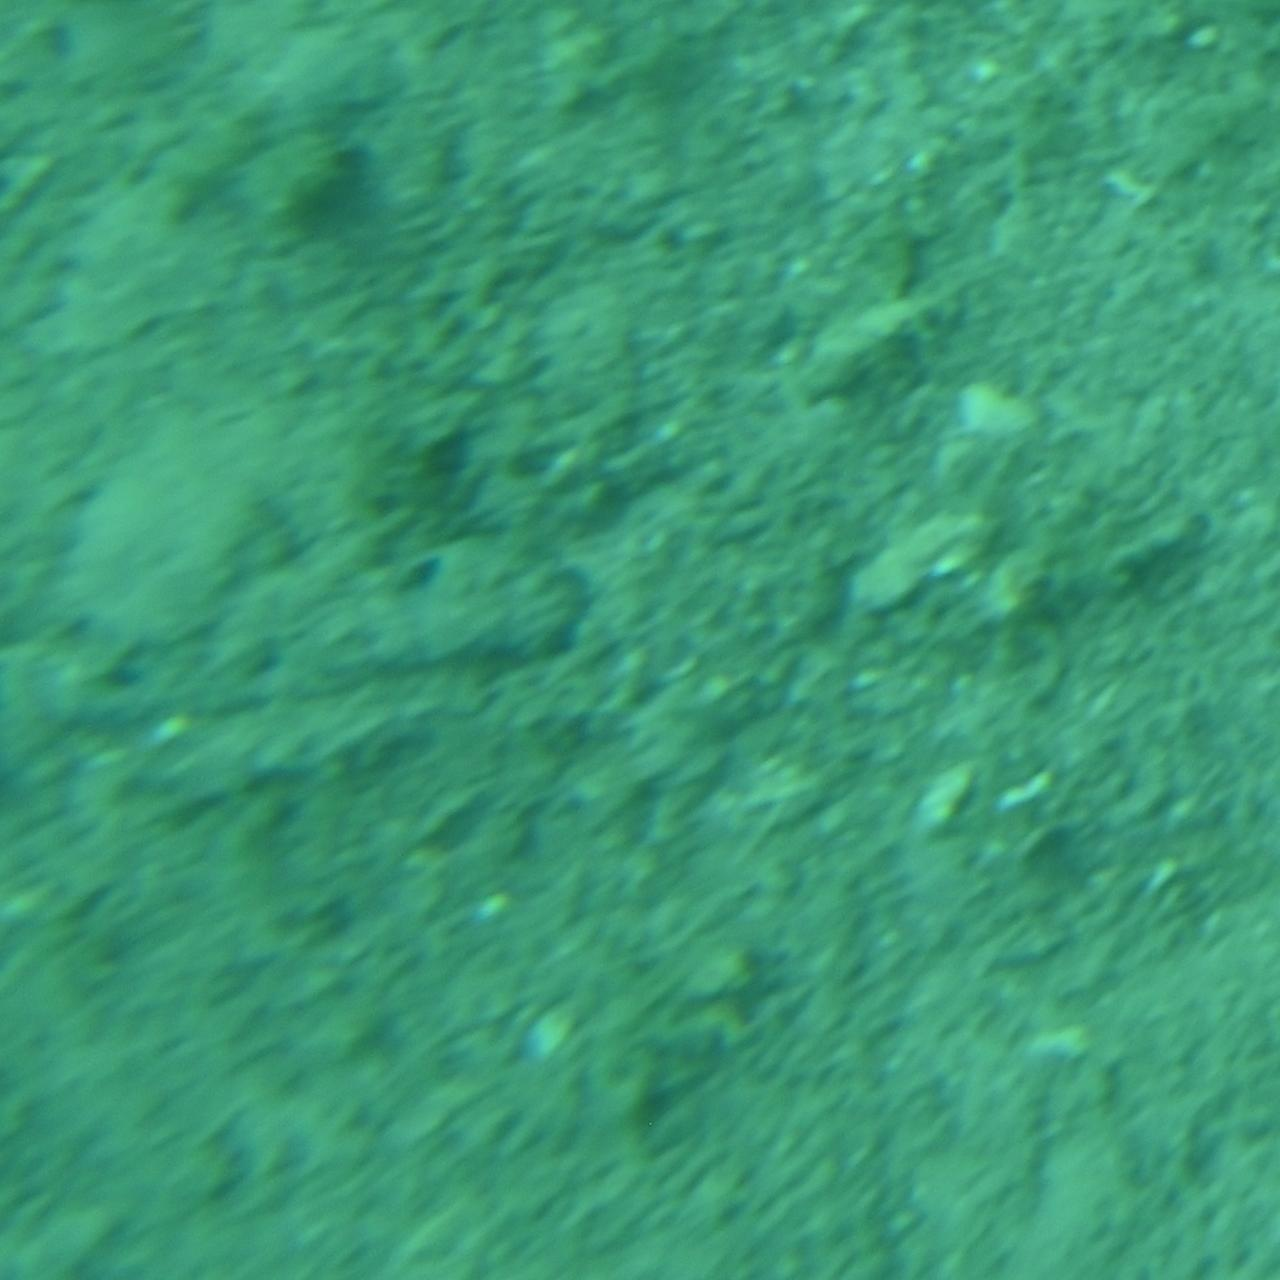Holothuria tubulosa: (12, 530, 602, 750)
